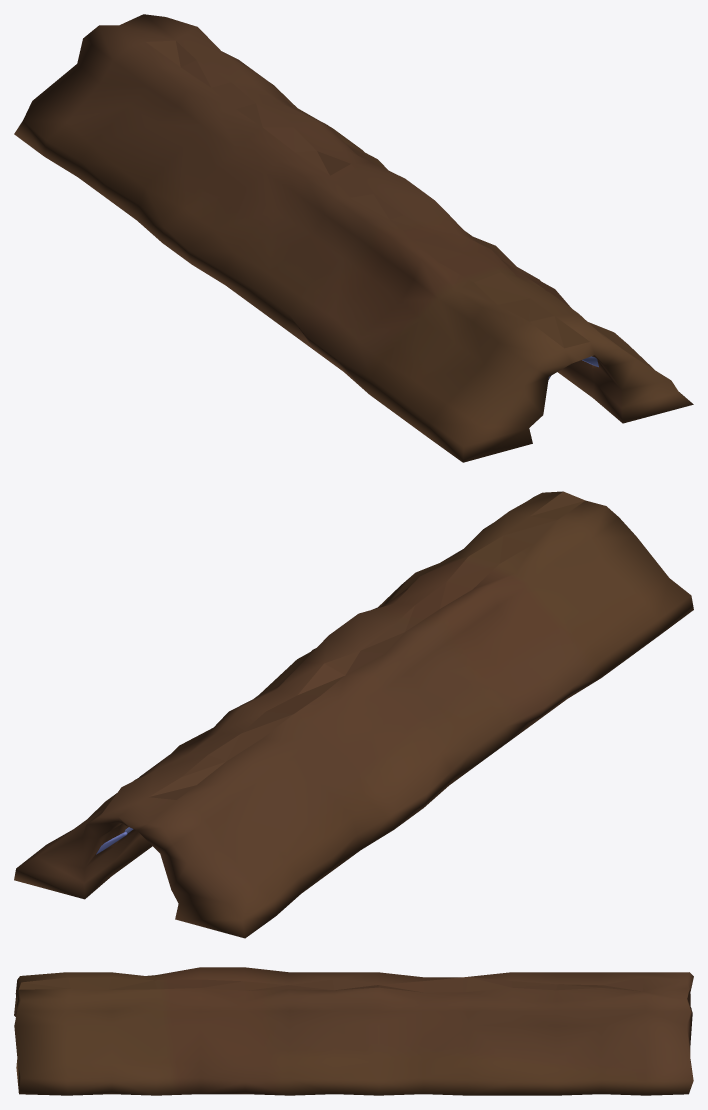
Rendered from M_Cavern.fbx.
3 renders of one model, top to bottom at view 1: azimuth 30°, elevation 25°; view 2: azimuth 150°, elevation 25°; view 3: azimuth 270°, elevation 25°, orthographic. The views are drawn at different scales.
Visible parts, largest first — view 1: Cavern; view 2: Cavern; view 3: Cavern.
Boxes of the visible parts, x1,y1,x2,y2 form: Cavern: (14, 14, 693, 462); Cavern: (14, 491, 693, 938); Cavern: (14, 967, 693, 1095).
Size of the model in its own units: 677 by 253 by 2201.
